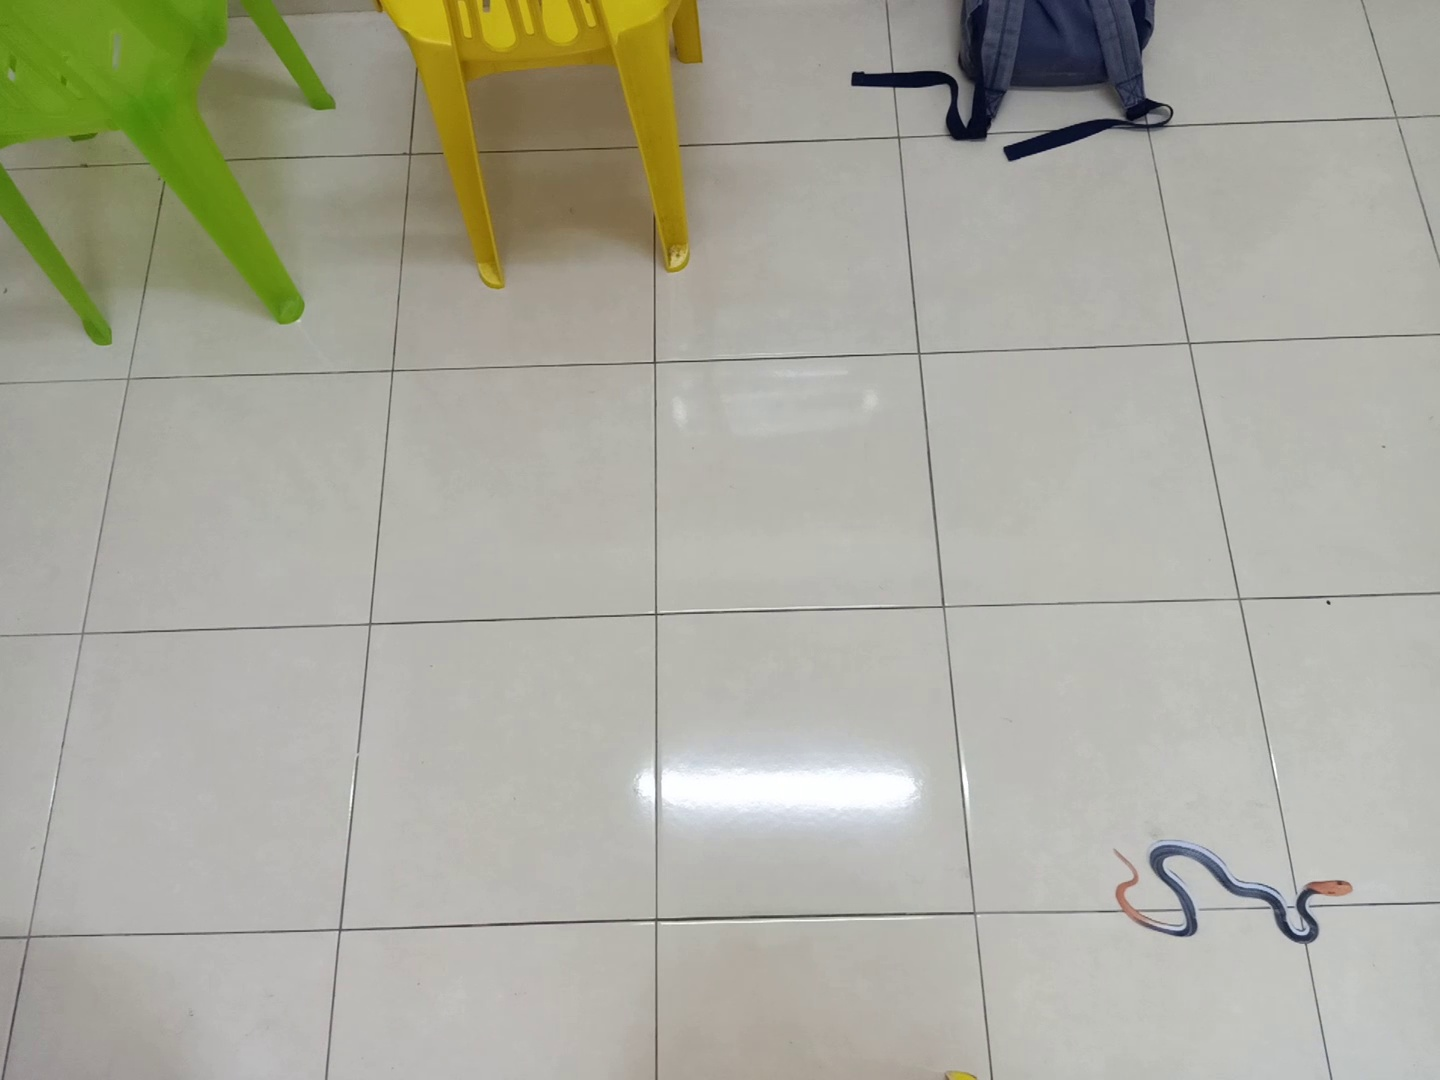snake: (1106, 832, 1364, 951)
